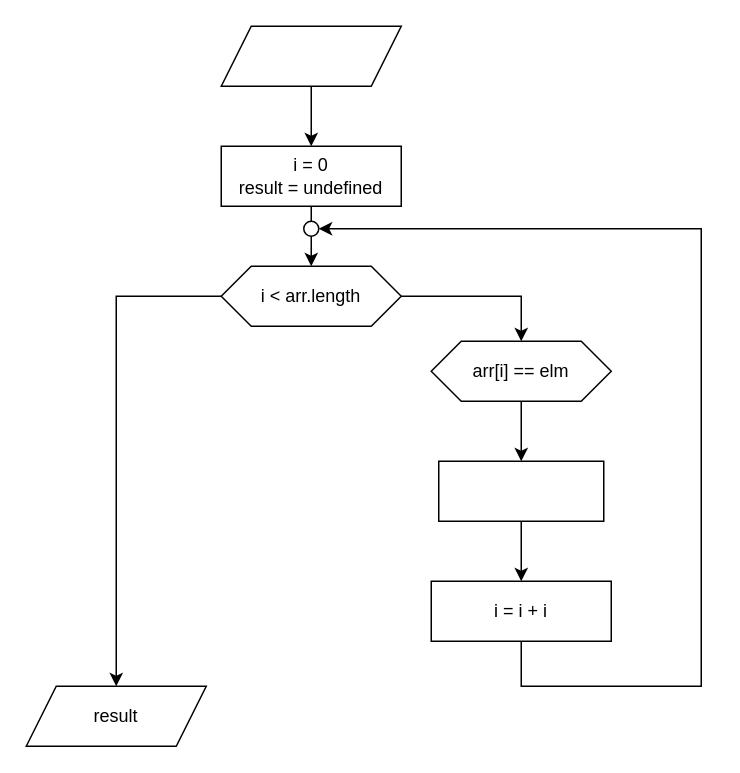
Some shapes in this 740 by 773 pixel diagram are drawn without their labels. Here are the shapes that lost their labels. From the top down, the centre of each, then its label:
[310,55]: arr, elm
[520,490]: result = true
